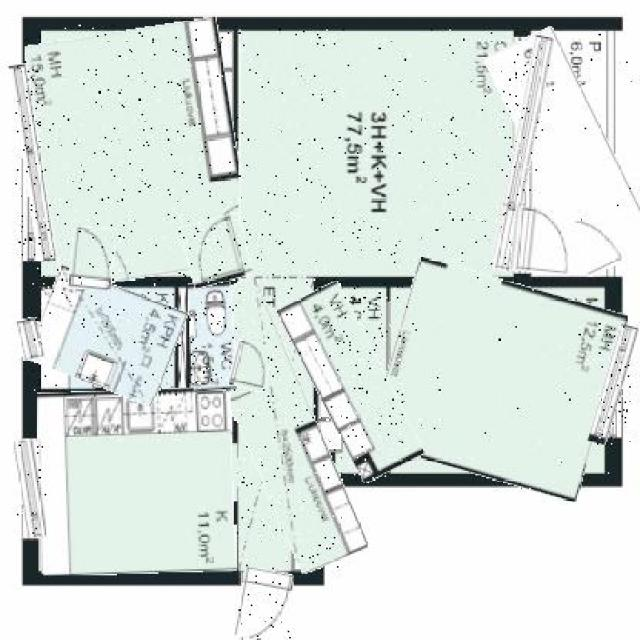door: (183, 216, 249, 284), (511, 208, 574, 274), (237, 567, 291, 640), (69, 226, 114, 291), (231, 342, 271, 391)
window: (503, 36, 543, 272), (15, 63, 48, 262), (597, 323, 631, 445), (17, 440, 46, 538), (19, 317, 43, 360)
zone: (238, 29, 511, 276), (34, 25, 246, 283), (378, 271, 617, 489), (214, 277, 341, 574), (40, 388, 237, 574), (508, 29, 632, 276), (297, 283, 405, 480), (32, 275, 182, 397), (190, 283, 236, 391)
